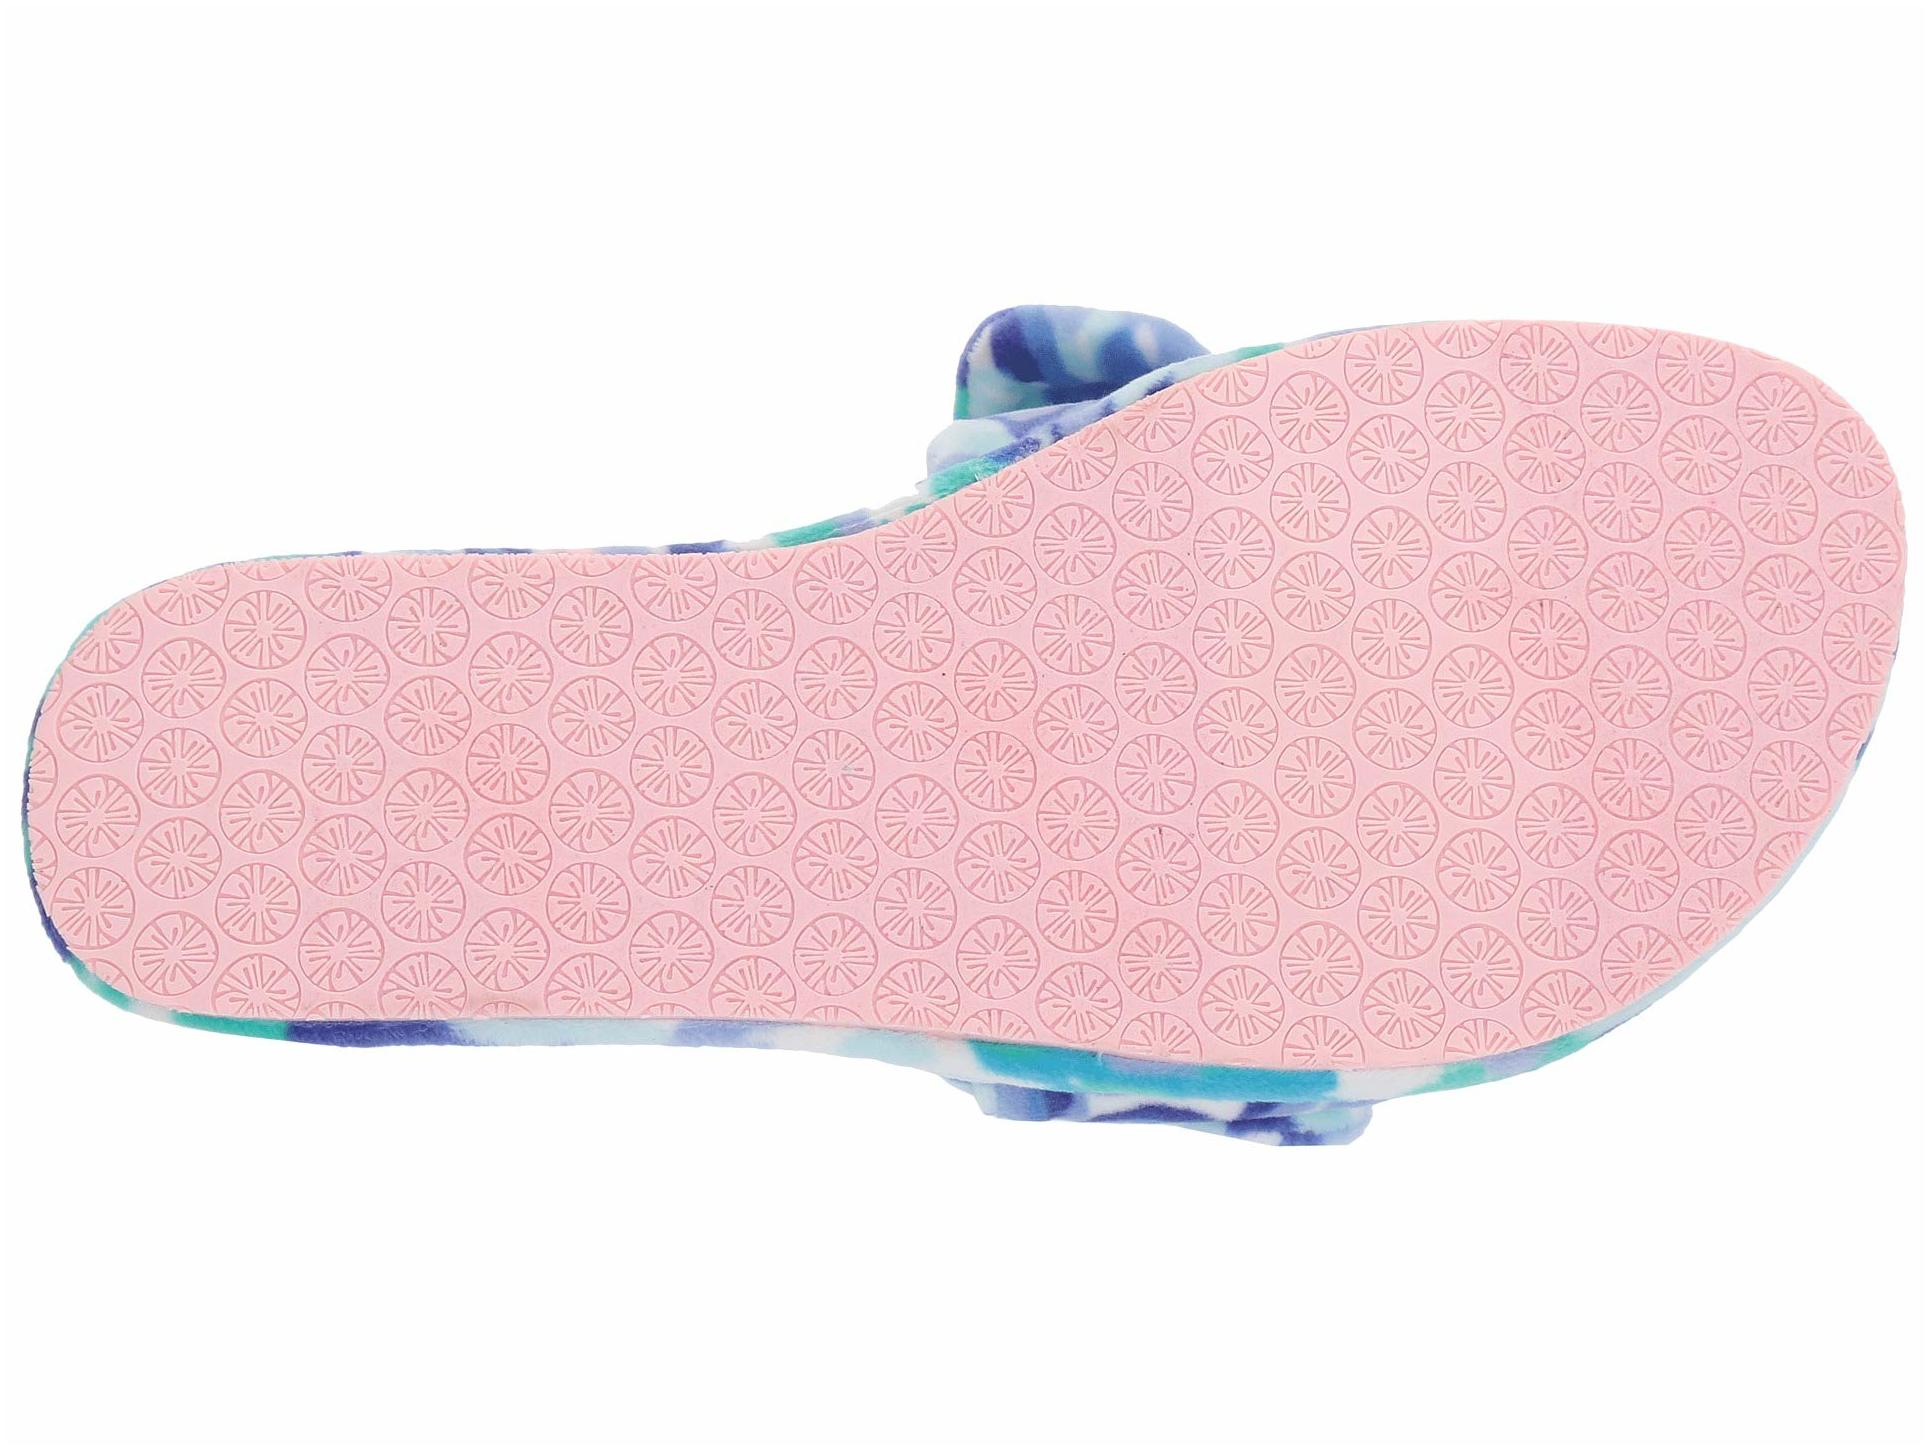circle: (117, 583, 1631, 1008), (1609, 393, 1842, 819), (1098, 375, 1602, 567)
